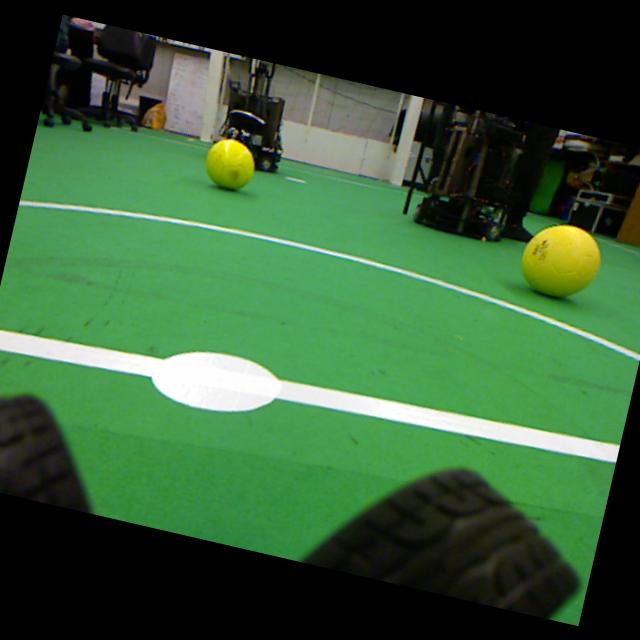ball: (521, 226, 600, 297), (205, 140, 254, 189)
goal: (392, 95, 423, 186), (200, 49, 222, 143)
robot: (402, 100, 523, 242), (218, 57, 285, 172)
